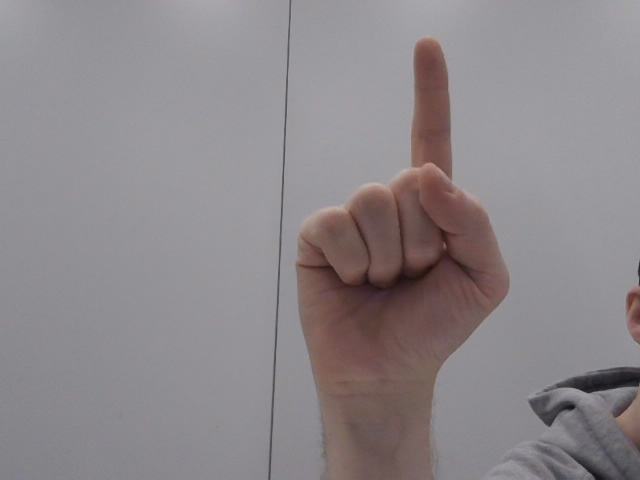up: (270, 22, 523, 398)
